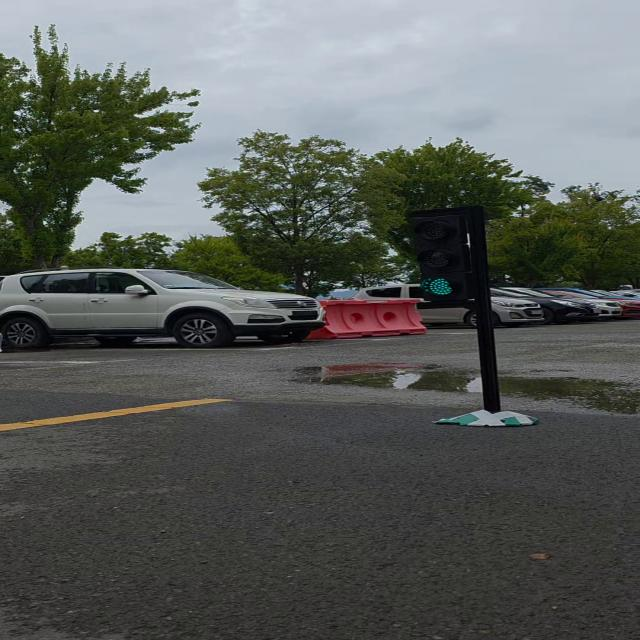green: (407, 209, 489, 305)
